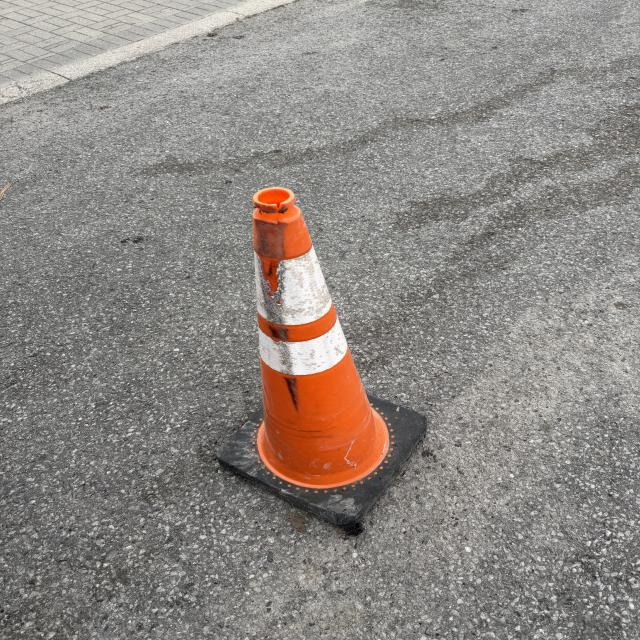Traffic Cone: (212, 185, 432, 530)
